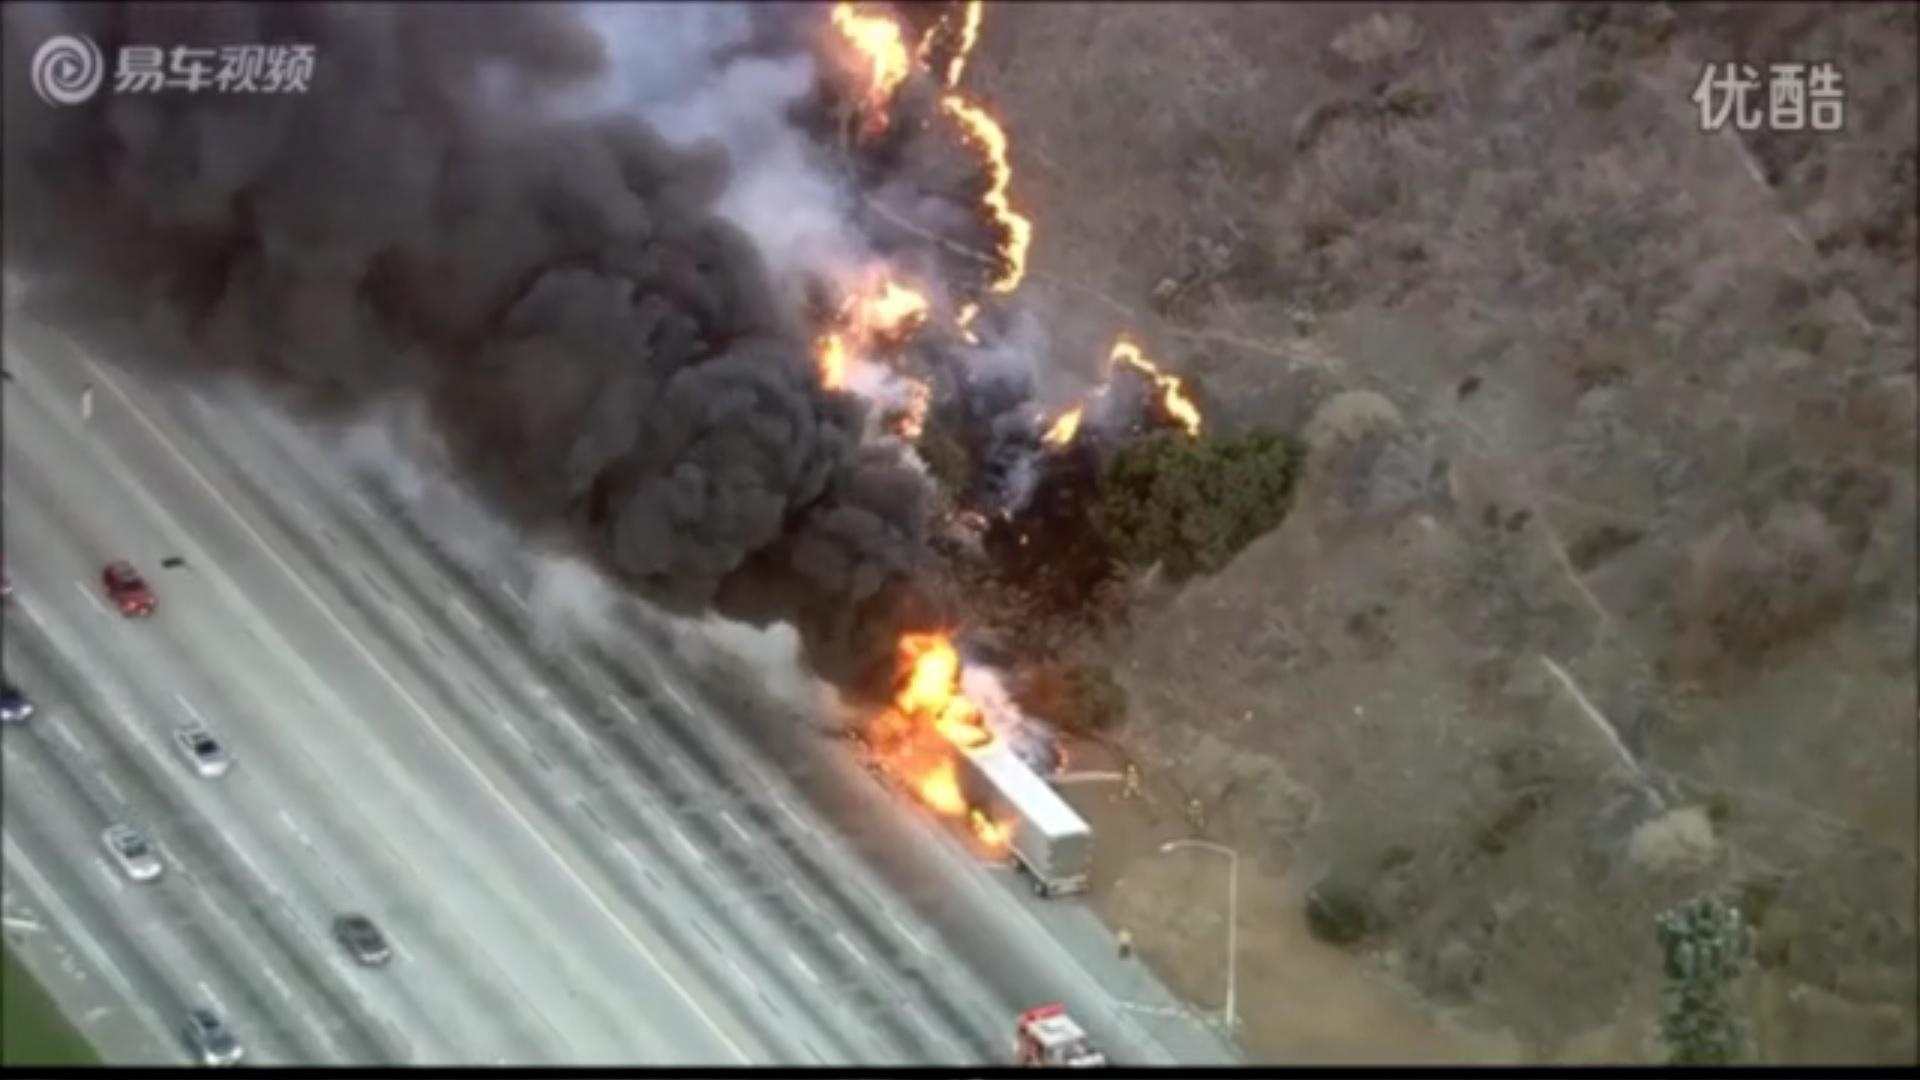fire: (825, 3, 1026, 330), (882, 633, 1000, 847), (820, 269, 927, 389), (1102, 334, 1203, 436), (1042, 402, 1083, 444)
